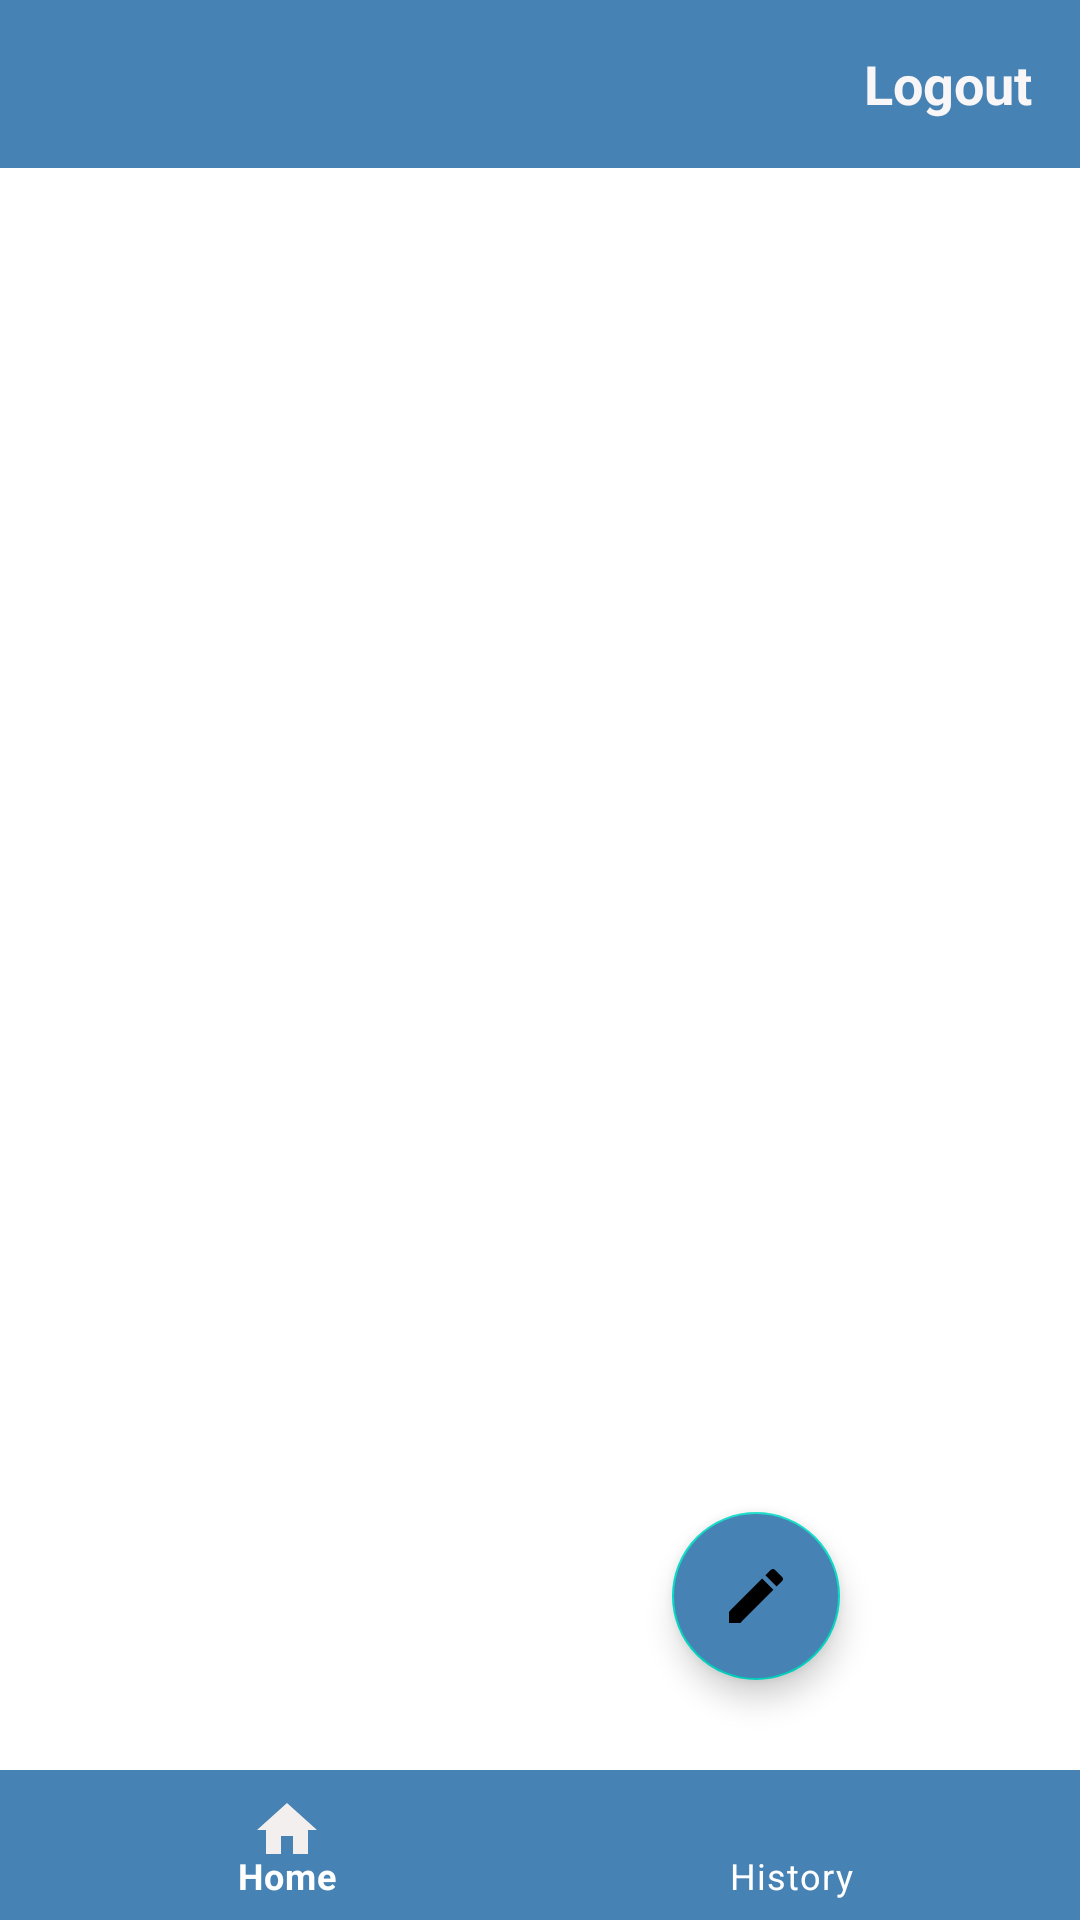

Icons on this 1080x1920 Android screen, each with the point to tap as point (x, y):
edit: point (756, 1596)
